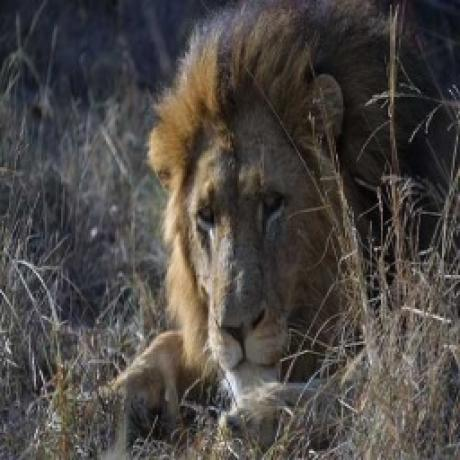Lion: (116, 0, 460, 428)
